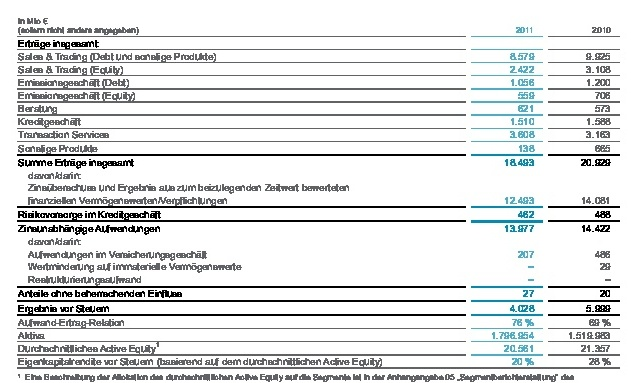table: (0, 0, 639, 383)
